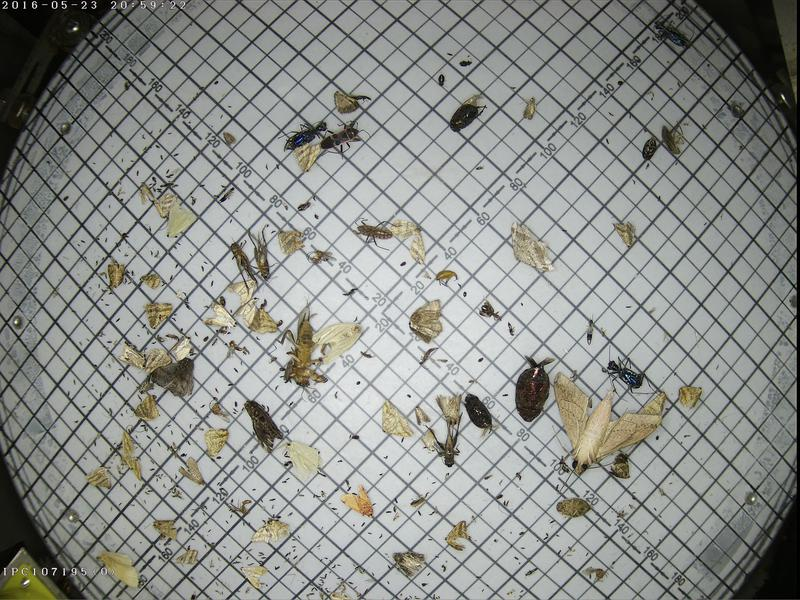Gryllotalpa orientalis: (270, 294, 327, 392)
holotrichia oblita: (460, 389, 495, 432)
